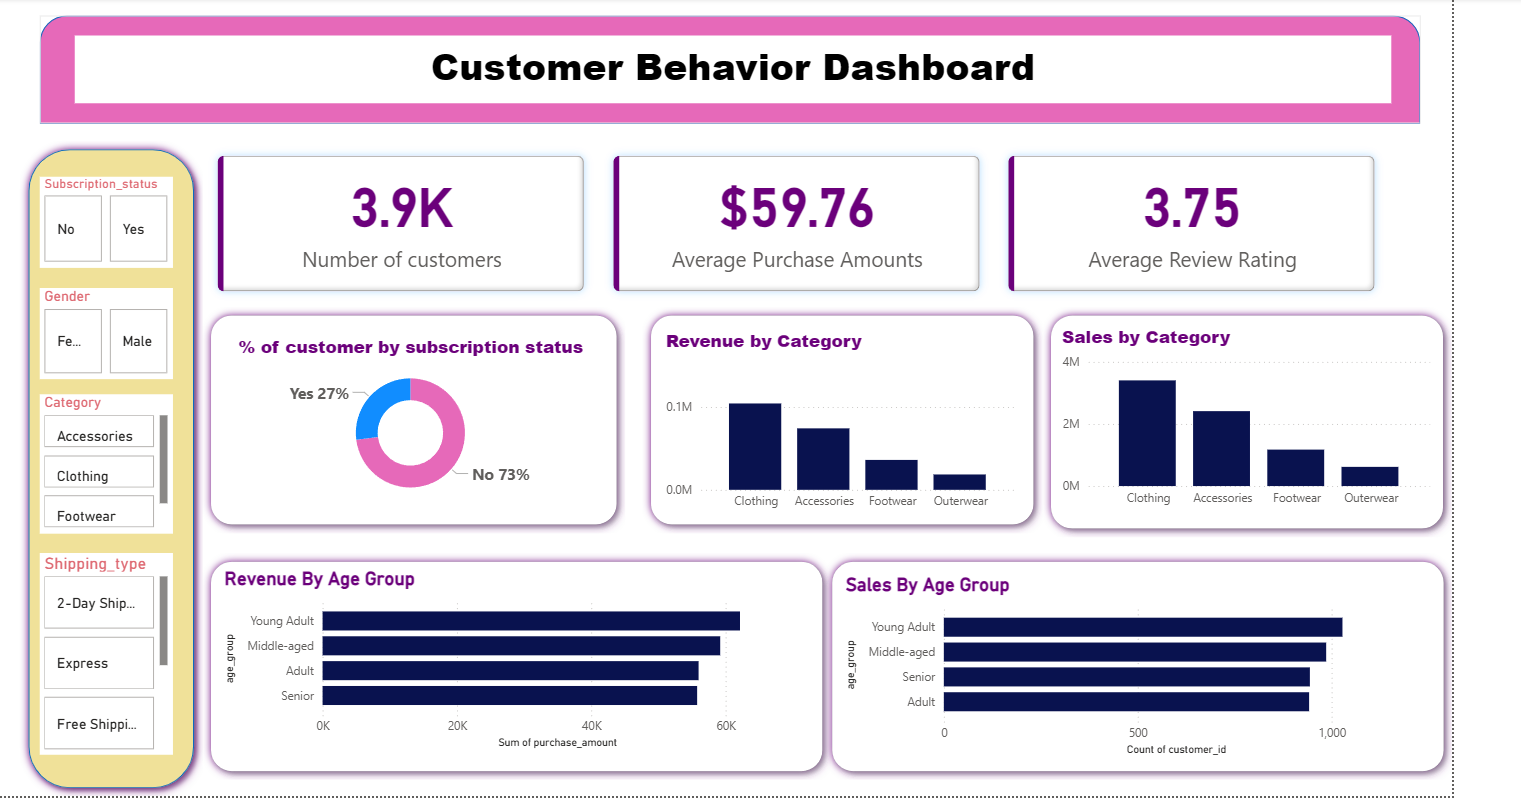

The page's visual inventory and layout, read from the dashboard file:
{"tool":"powerbi","page":{"name":"Page 1","canvas":[1500,820],"ordinal":0},"visuals":[{"type":"cardVisual","fields":{"Data":["public customer.Number of customers","public customer.Average Purchase Amounts","public customer.Average  Review Rating"]},"box":[217.3,146.2,1221.4,171.3],"z":0},{"type":"shape","box":[50.1,18.1,1417.7,111.4],"z":1000},{"type":"textbox","box":[0,374.6,1280.3,12.3],"z":2000},{"type":"shape","box":[217.3,317.5,434.5,232.6],"z":3000},{"type":"donutChart","title":"% of customer by subscription status","fields":{"Category":["public customer.subscription_status"],"Y":["CountNonNull(public customer.customer_id)"]},"box":[247.9,345.4,366.3,178.3],"z":4000},{"type":"shape","box":[1079.3,317.5,420.6,236.8],"z":5000},{"type":"shape","box":[668.5,317.5,410.8,232.6],"z":6000},{"type":"textbox","box":[86.3,39,1352.3,69.6],"z":7000},{"type":"clusteredColumnChart","title":"Revenue by Category","fields":{"Y":["Sum(public customer.purchase_amount)"],"Category":["public customer.category"]},"box":[688,338.4,369.1,196.4],"z":8000},{"type":"clusteredColumnChart","title":"Sales by Category","fields":{"Y":["Sum(public customer.customer_id)"],"Category":["public customer.category"]},"box":[1094.6,335.6,388.6,196.4],"z":9000},{"type":"shape","box":[29.2,146.2,188,674.1],"z":10000},{"type":"advancedSlicerVisual","title":"Subscription_status","fields":{"Values":["public customer.subscription_status"]},"box":[50.1,183.8,136.5,93.3],"z":11000},{"type":"advancedSlicerVisual","title":"Gender","fields":{"Values":["public customer.gender"]},"box":[50.1,298,136.5,93.3],"z":12000},{"type":"advancedSlicerVisual","title":"Category","fields":{"Values":["public customer.category"]},"box":[50.1,406.7,136.5,143.4],"z":13000},{"type":"advancedSlicerVisual","title":"Shipping_type","fields":{"Values":["public customer.shipping_type"]},"box":[50.1,569.6,136.5,207.5],"z":14000},{"type":"shape","box":[217.3,569.6,597.5,232.6],"z":15000},{"type":"clusteredBarChart","title":"Revenue By Age Group","fields":{"Category":["public customer.age_group"],"Y":["Sum(public customer.purchase_amount)"]},"box":[234,586.3,559.9,190.8],"z":16000},{"type":"shape","box":[839.8,569.6,628.1,232.6],"z":17000},{"type":"clusteredBarChart","title":"Sales By Age Group","fields":{"Category":["public customer.age_group"],"Y":["Sum(public customer.customer_id)"]},"box":[884.3,586.3,565.4,190.8],"z":18000}]}

Visuals, with their boxes on the page's 1500x820 design canvas (x1, y1, x2, y2). These are canvas units, not pixel positions in the 1521x799 screenshot, which may show the page scaled, cropped or inside an application window:
cardVisual - public customer.Number of customers x public customer.Average Purchase Amounts: <box>217,146,1439,318</box>
shape: <box>50,18,1468,130</box>
textbox: <box>0,375,1280,387</box>
shape: <box>217,318,652,550</box>
"% of customer by subscription status" donutChart: <box>248,345,614,524</box>
shape: <box>1079,318,1500,554</box>
shape: <box>668,318,1079,550</box>
textbox: <box>86,39,1439,109</box>
"Revenue by Category" clusteredColumnChart: <box>688,338,1057,535</box>
"Sales by Category" clusteredColumnChart: <box>1095,336,1483,532</box>
shape: <box>29,146,217,820</box>
"Subscription_status" advancedSlicerVisual: <box>50,184,187,277</box>
"Gender" advancedSlicerVisual: <box>50,298,187,391</box>
"Category" advancedSlicerVisual: <box>50,407,187,550</box>
"Shipping_type" advancedSlicerVisual: <box>50,570,187,777</box>
shape: <box>217,570,815,802</box>
"Revenue By Age Group" clusteredBarChart: <box>234,586,794,777</box>
shape: <box>840,570,1468,802</box>
"Sales By Age Group" clusteredBarChart: <box>884,586,1450,777</box>
